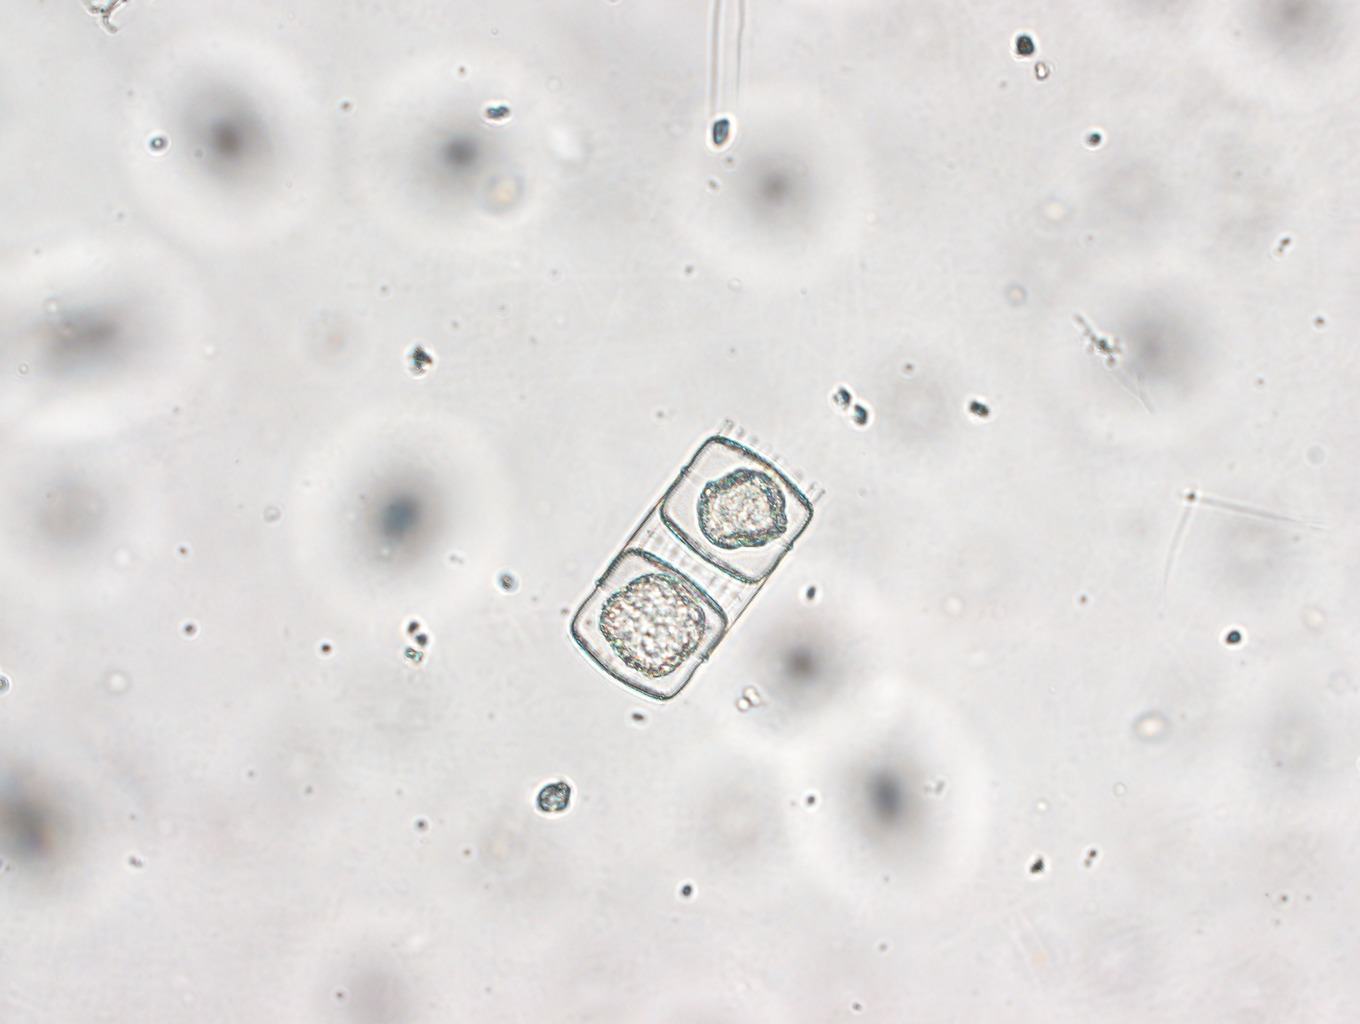corethron: (568, 414, 824, 702)
